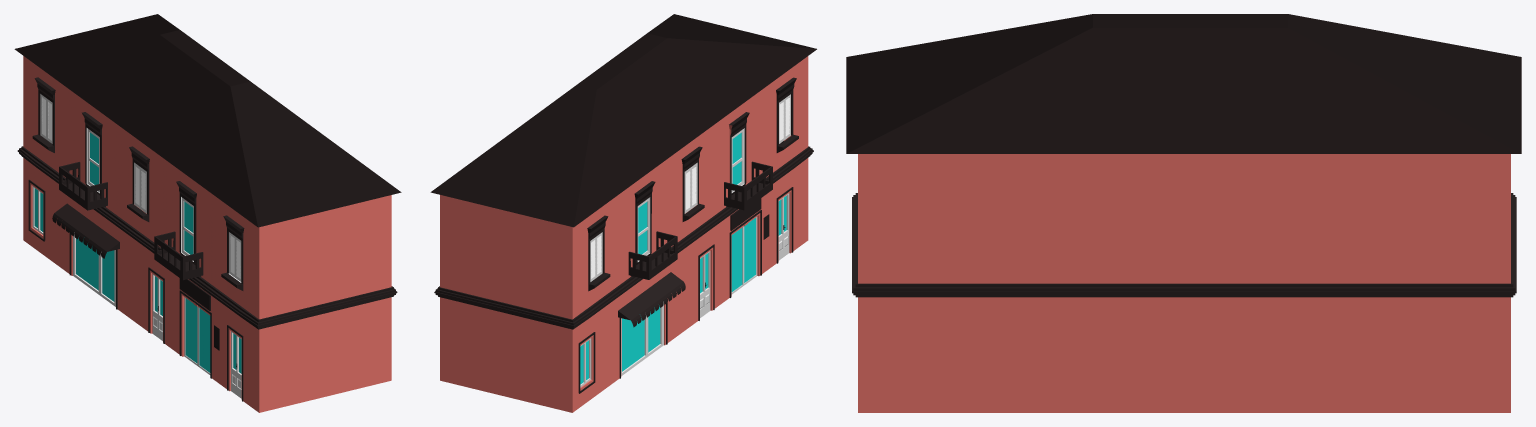
Rendered from House_01.FBX.
3 renders of one model, left to right at view 1: azimuth 30°, elevation 25°; view 2: azimuth 150°, elevation 25°; view 3: azimuth 270°, elevation 25°, orthographic. The views are drawn at different scales.
Visible parts, largest first — view 1: House_01; view 2: House_01; view 3: House_01.
Part boxes in pixels (x1,y1,x2,y2): House_01: (14, 14, 401, 412); House_01: (430, 14, 816, 412); House_01: (846, 14, 1521, 412).
Bounding box in the file's own units: 17.78 × 47.28 × 26.82.
